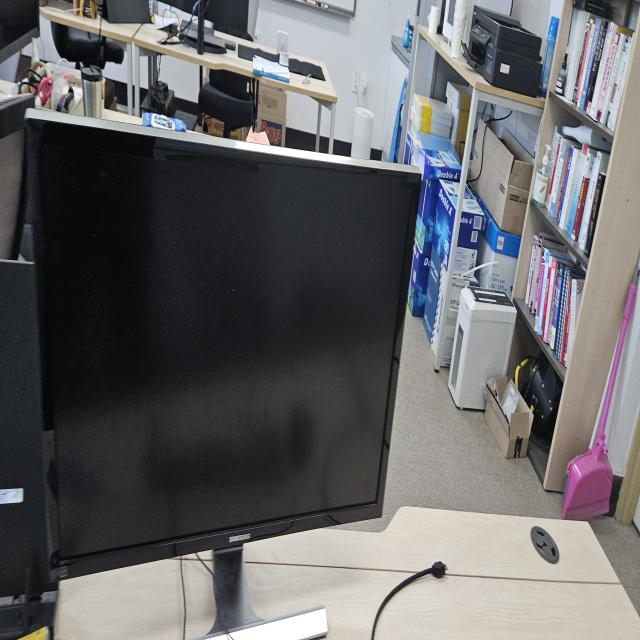Monitor: (20, 102, 422, 628)
